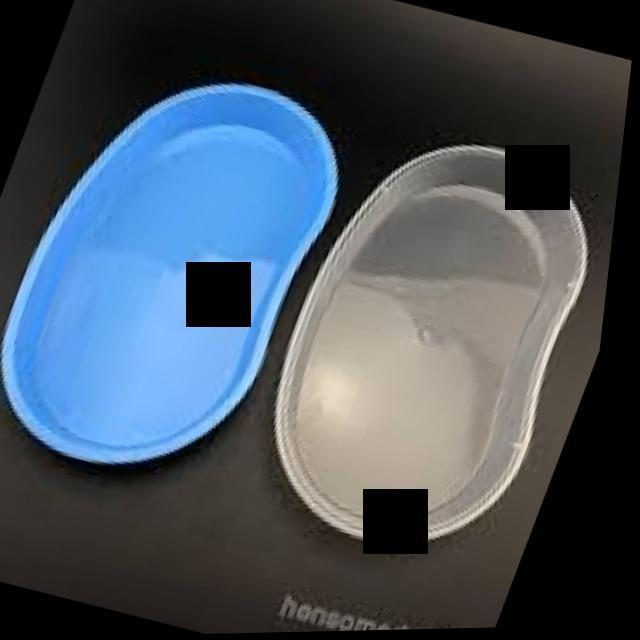Kidney Tray: (222, 99, 630, 587)
